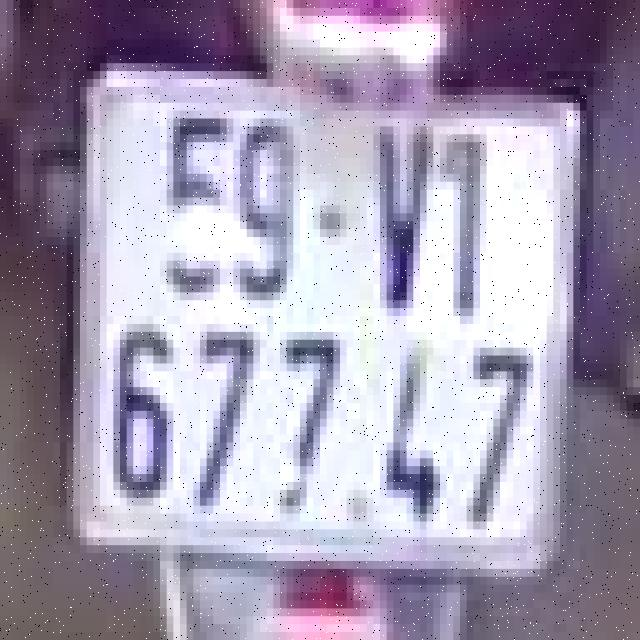1: (443, 111, 497, 324)
4: (377, 332, 450, 537)
5: (157, 107, 230, 312)
6: (103, 312, 177, 510)
7: (266, 328, 346, 541), (187, 328, 253, 525), (470, 348, 530, 537)
9: (240, 107, 307, 304)
V: (370, 111, 430, 324)
